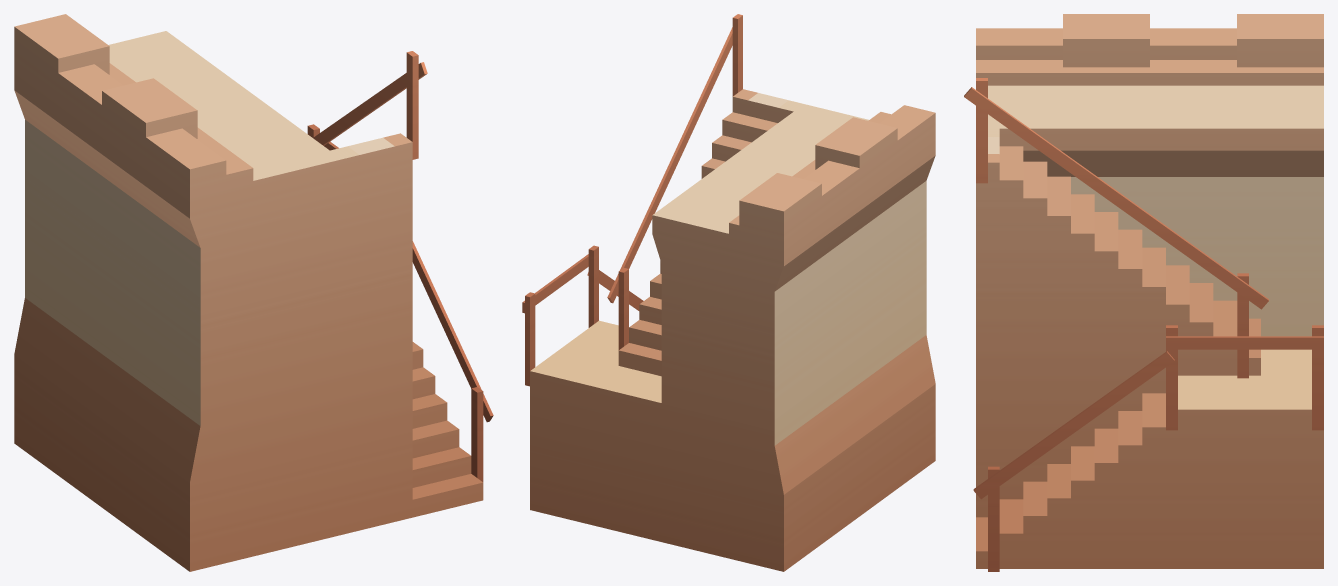
File: wall-narrow-stairs-rail.obj
3 views of the same model, side by side, from view 1: azimuth 30°, elevation 25°; view 2: azimuth 150°, elevation 25°; view 3: azimuth 270°, elevation 25° (orthographic). The views are drawn at different scales.
Parts seen in each view (by area): view 1: wall-narrow-stairs-rail; view 2: wall-narrow-stairs-rail; view 3: wall-narrow-stairs-rail.
Boxes of the visible parts, x1,y1,x2,y2 form: wall-narrow-stairs-rail: (14,14,493,571); wall-narrow-stairs-rail: (522,14,935,571); wall-narrow-stairs-rail: (964,14,1323,571).
Size of the model in its own units: 0.995 by 1.45 by 1.03.
1 material, 1 textured.
